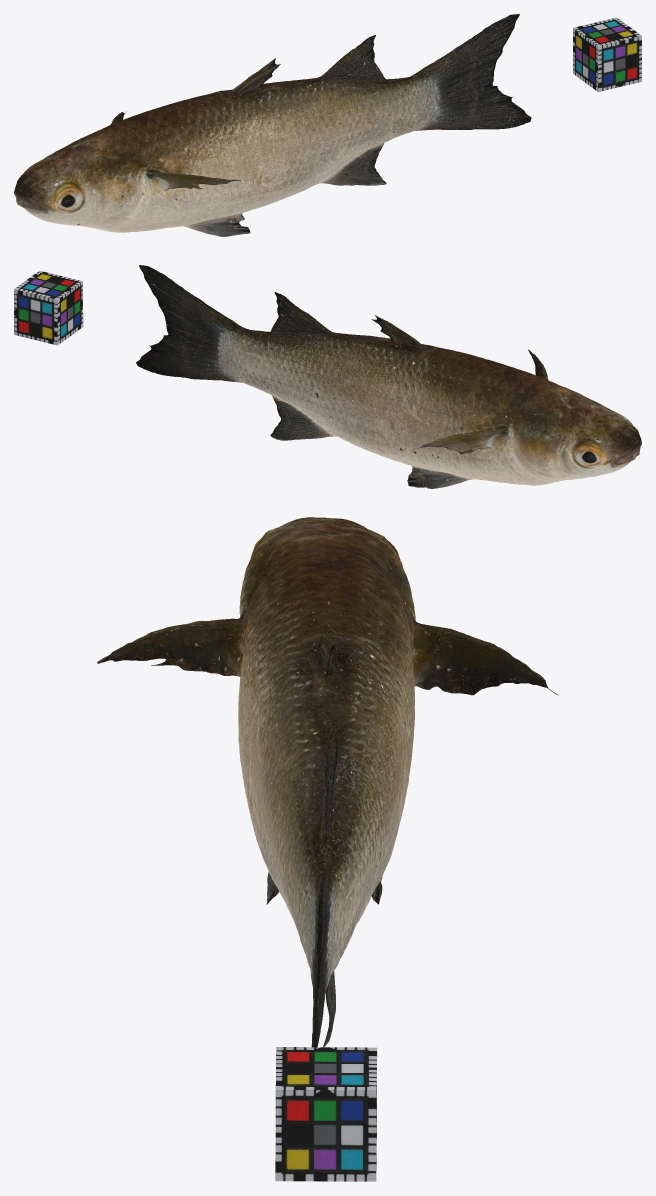
Rendered from scan_largemullet.glb.
3 views of the same model, one above another, from view 1: azimuth 30°, elevation 25°; view 2: azimuth 150°, elevation 25°; view 3: azimuth 270°, elevation 25° (orthographic). The views are drawn at different scales.
Visible parts, largest first — view 1: Object_6, Object_4; view 2: Object_6, Object_4; view 3: Object_6, Object_4.
Part boxes in pixels (x1=…): Object_6: x1=14, y1=14, x2=531, y2=236; Object_4: x1=573, y1=17, x2=641, y2=91; Object_6: x1=136, y1=265, x2=641, y2=488; Object_4: x1=14, y1=270, x2=83, y2=345; Object_6: x1=97, y1=517, x2=558, y2=1047; Object_4: x1=275, y1=1047, x2=377, y2=1181.
Size of the model in its own units: 8.88 by 2.11 by 2.9.
Materials: 2 (2 with a texture image).
